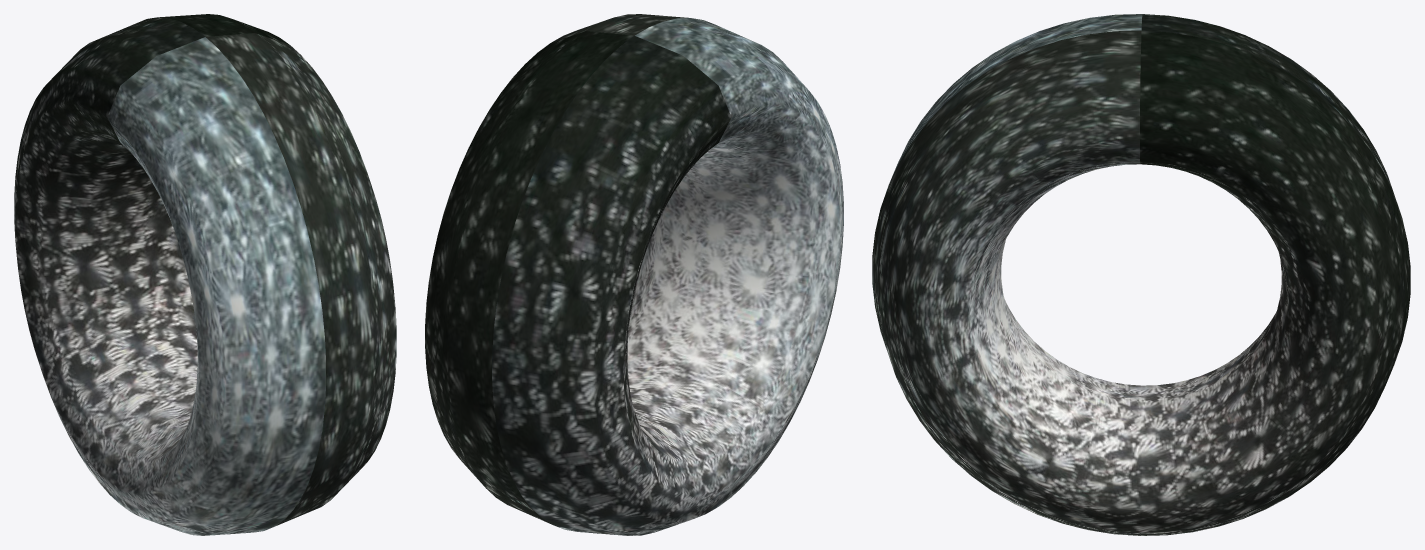
Rendered from gargantuaCom.obj.
The picture shows the model from 3 angles, left to right: view 1: azimuth 30°, elevation 25°; view 2: azimuth 150°, elevation 25°; view 3: azimuth 270°, elevation 25°; orthographic projection. The views are drawn at different scales.
Visible parts, largest first — view 1: Toroide_Gargantua:Torus001; view 2: Toroide_Gargantua:Torus001; view 3: Toroide_Gargantua:Torus001.
Boxes of the visible parts, x1,y1,x2,y2 form: Toroide_Gargantua:Torus001: (14,14,396,535); Toroide_Gargantua:Torus001: (425,14,843,535); Toroide_Gargantua:Torus001: (872,14,1410,535).
Size of the model in its own units: 3.57 by 7.71 by 7.69.
